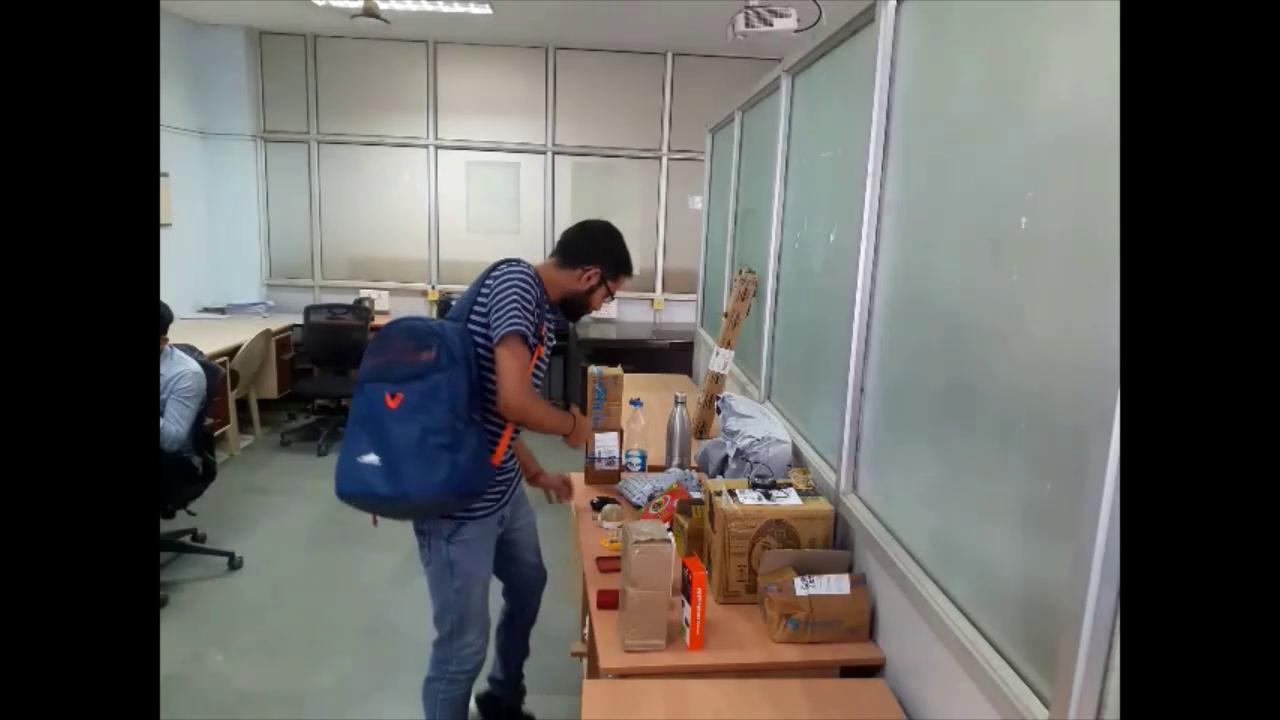Normal: (335, 213, 642, 720)
